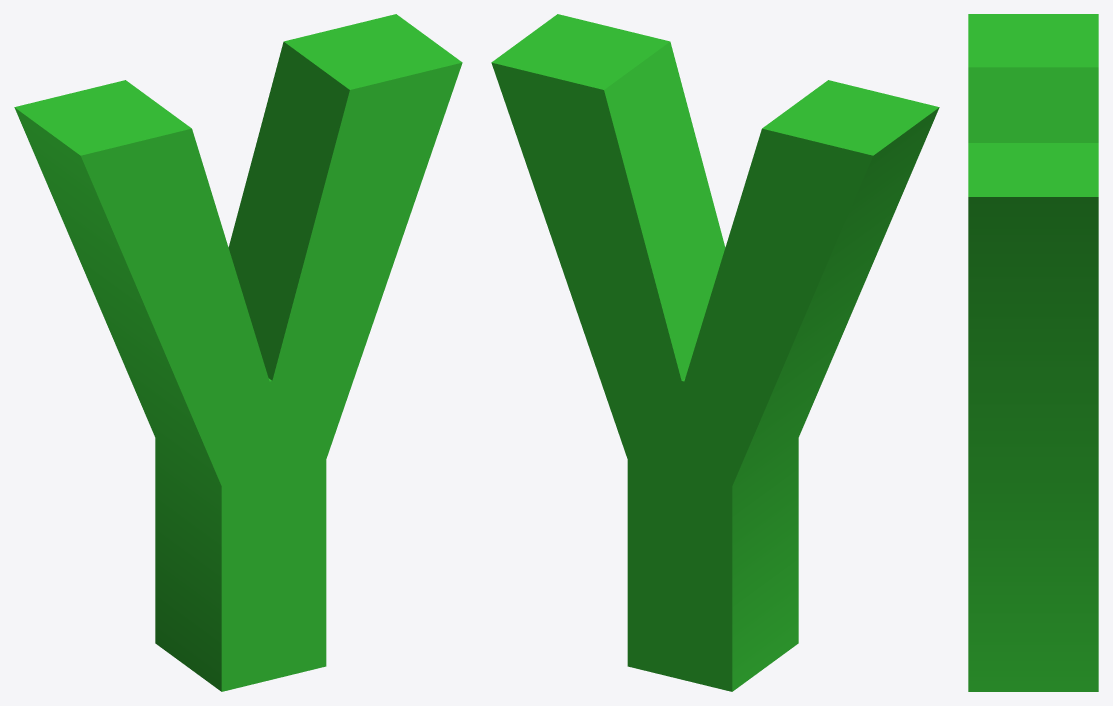
Rendered from Letter_Y.fbx.
The picture shows the model from 3 angles, left to right: view 1: azimuth 30°, elevation 25°; view 2: azimuth 150°, elevation 25°; view 3: azimuth 270°, elevation 25°; orthographic projection.
Visible parts, largest first — view 1: Group1; view 2: Group1; view 3: Group1.
Part boxes in pixels (bbox=[...]): Group1: bbox=[14, 14, 462, 691]; Group1: bbox=[491, 14, 939, 691]; Group1: bbox=[968, 14, 1098, 691].
Bounding box in the file's own units: 150 × 214 × 45.
